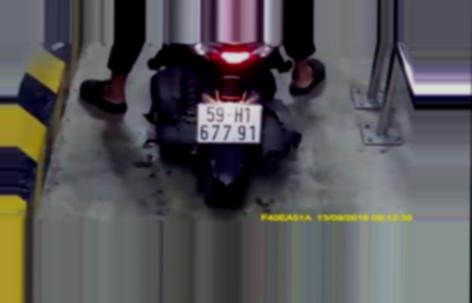License_Plate: (191, 98, 263, 148)
